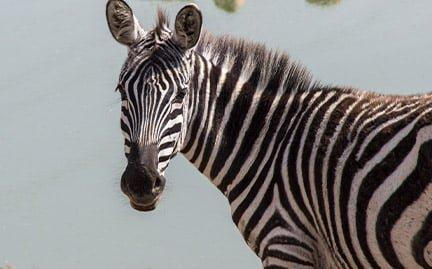Zebra: (106, 0, 431, 268)
